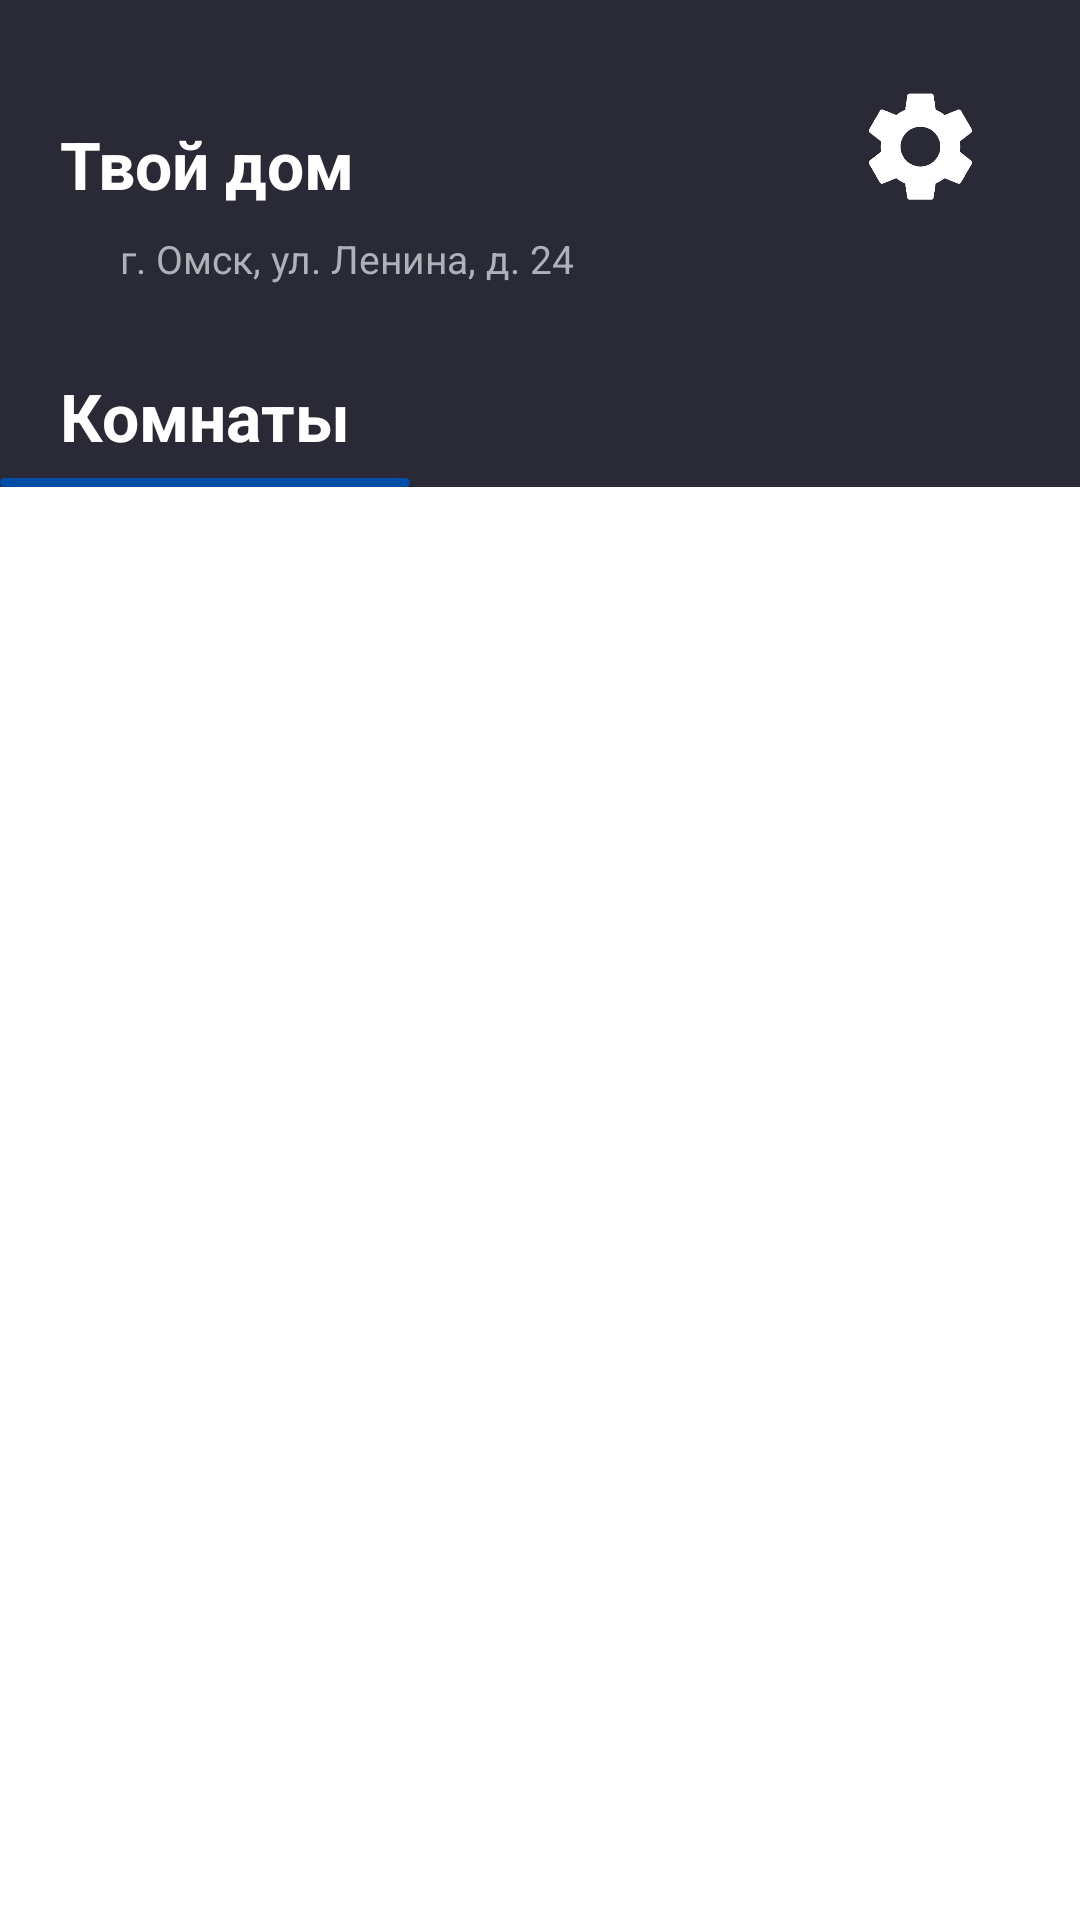

Icons on this 1080*1920 Android screen, each with its box as (x1, y1, x2, y2):
settings: (869, 93, 972, 200)
